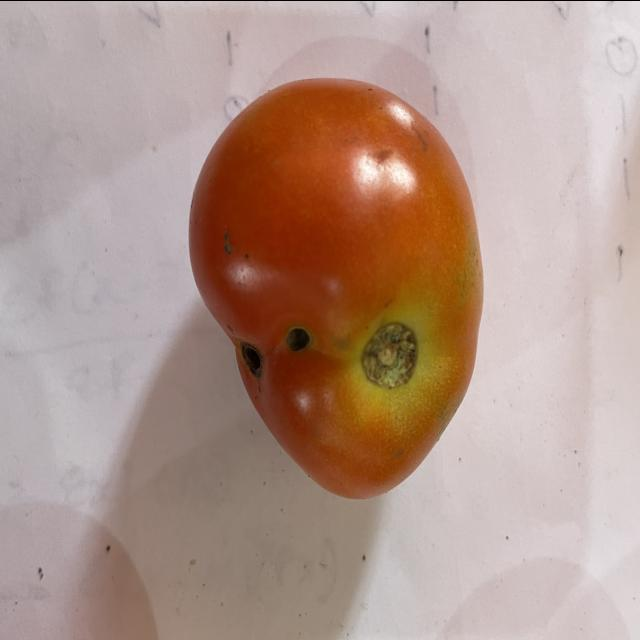fruitworm_bore: (237, 322, 321, 374)
